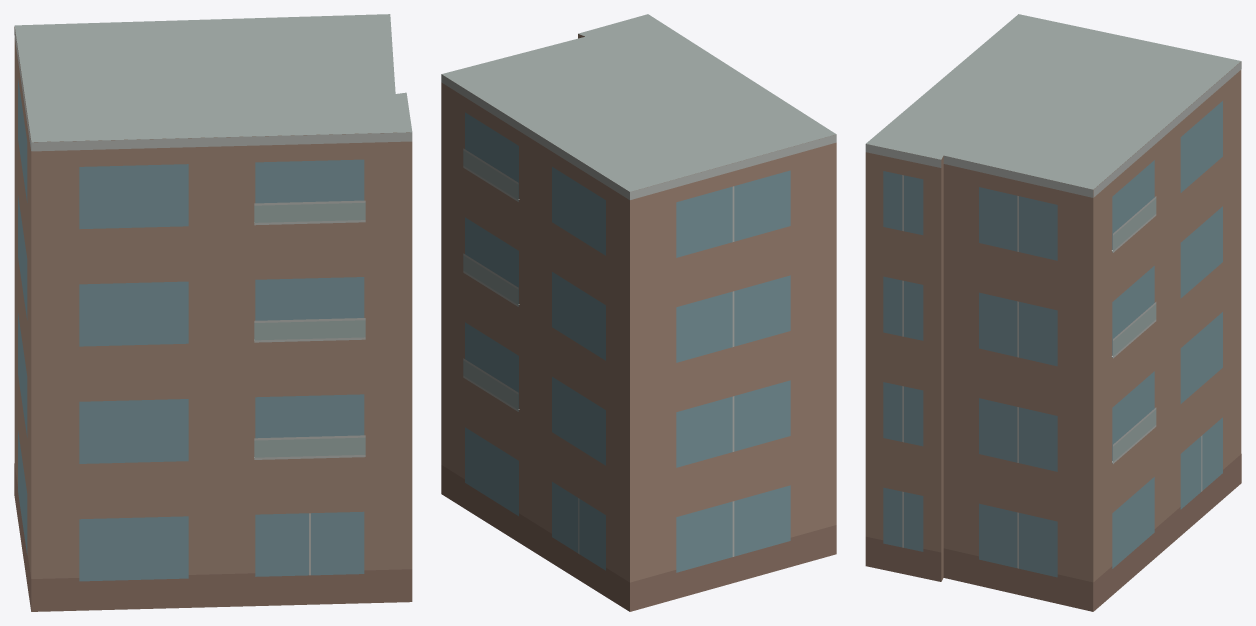
File: survey-upis-33013847.glb
3 renders of one model, left to right at view 1: azimuth 30°, elevation 25°; view 2: azimuth 150°, elevation 25°; view 3: azimuth 270°, elevation 25°, orthographic. The views are drawn at different scales.
Parts seen in each view (by area): view 1: survey-upis-33013847.tmp; view 2: survey-upis-33013847.tmp; view 3: survey-upis-33013847.tmp.
Boxes of the visible parts, box(x1,y1,x2,y2) form: survey-upis-33013847.tmp: box(14, 14, 412, 611); survey-upis-33013847.tmp: box(441, 14, 836, 611); survey-upis-33013847.tmp: box(865, 14, 1241, 611).
Size of the model in its own units: 11.07 by 12.4 by 10.01.
